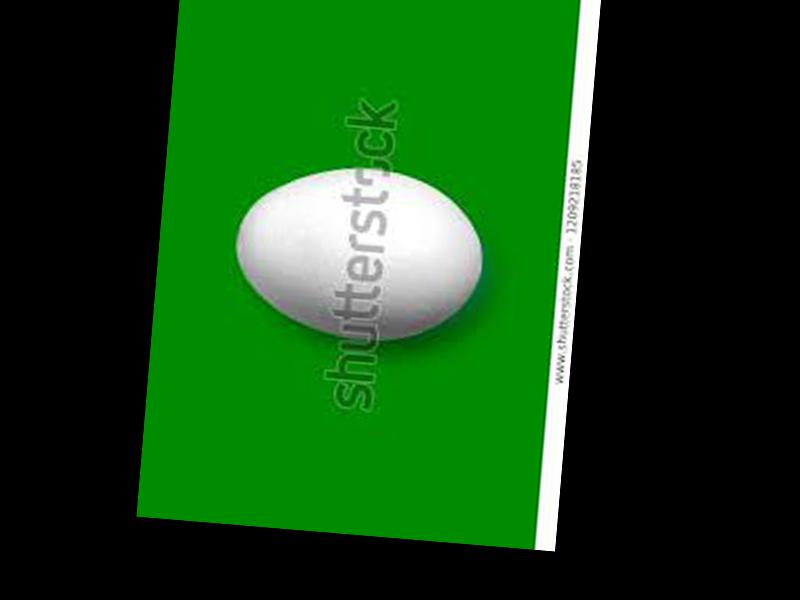Eggs: (229, 159, 487, 350)
